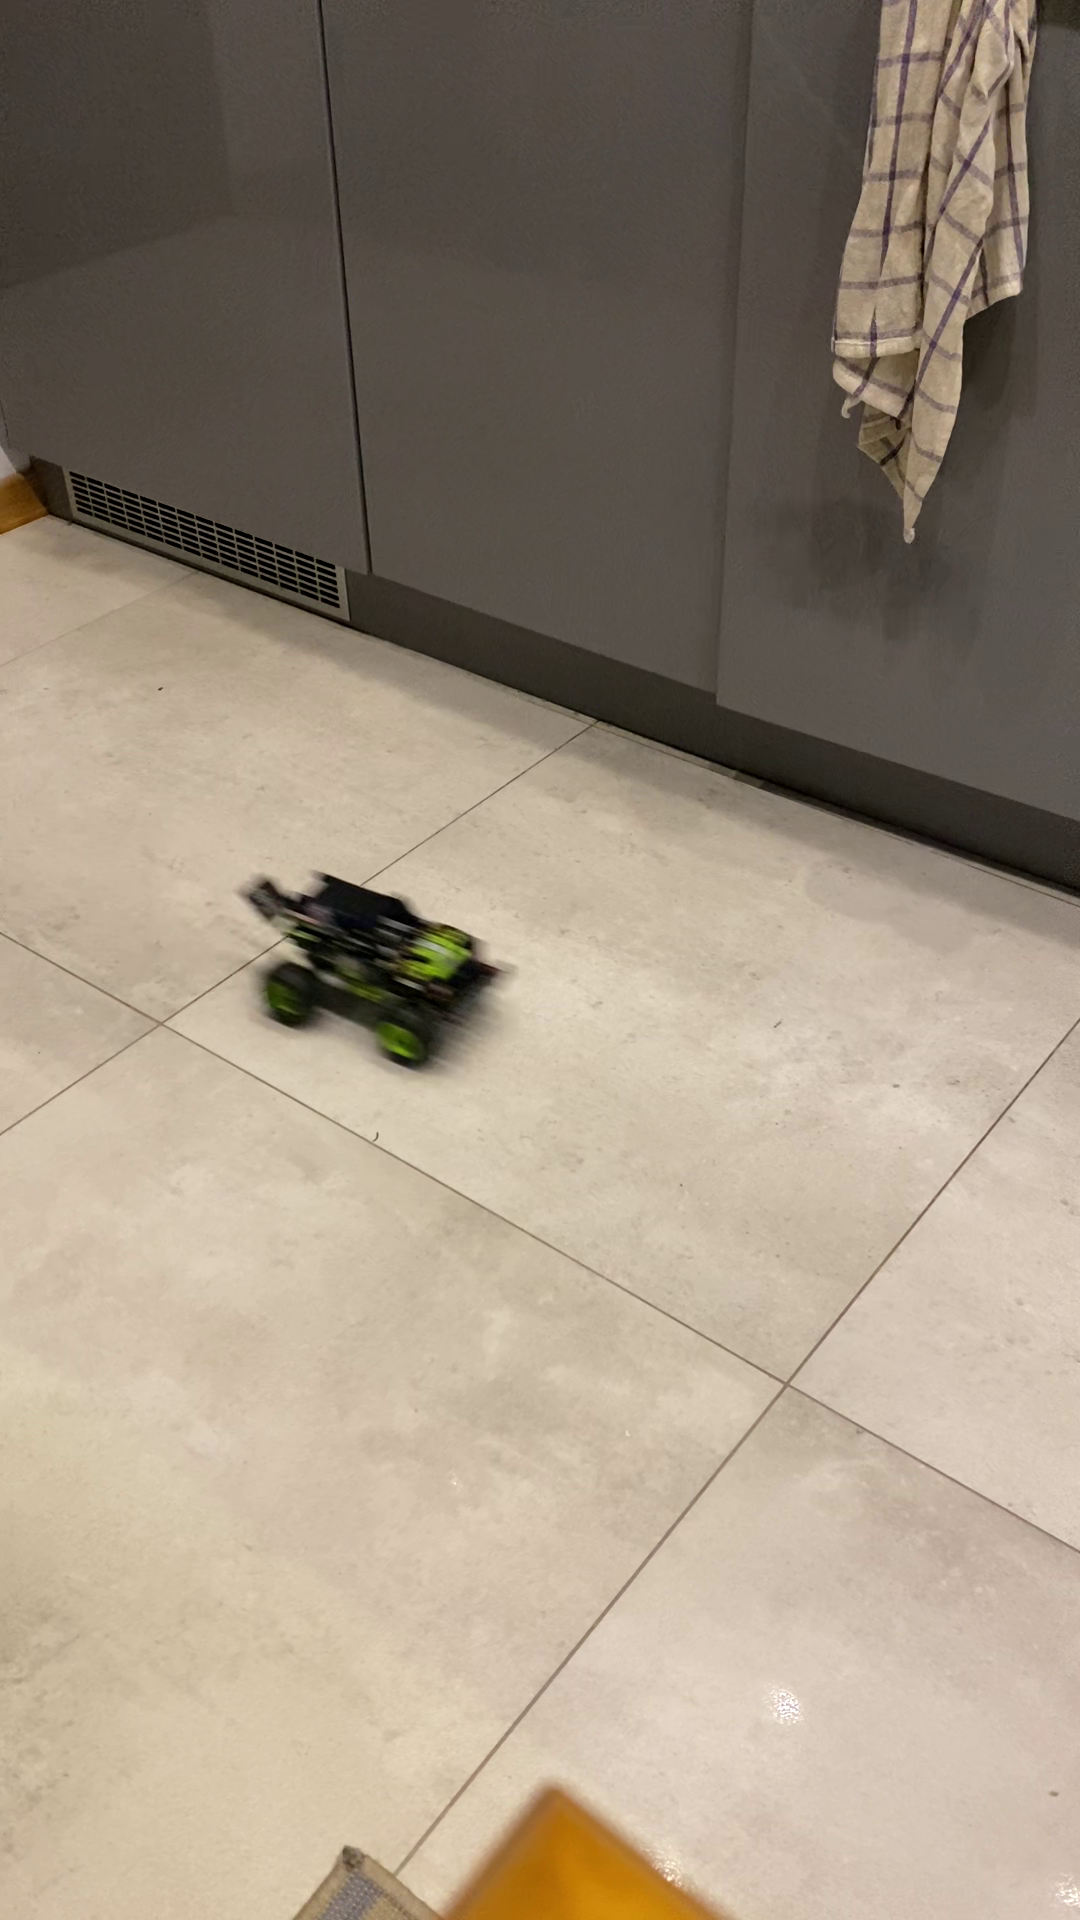car: (266, 877, 498, 1080)
